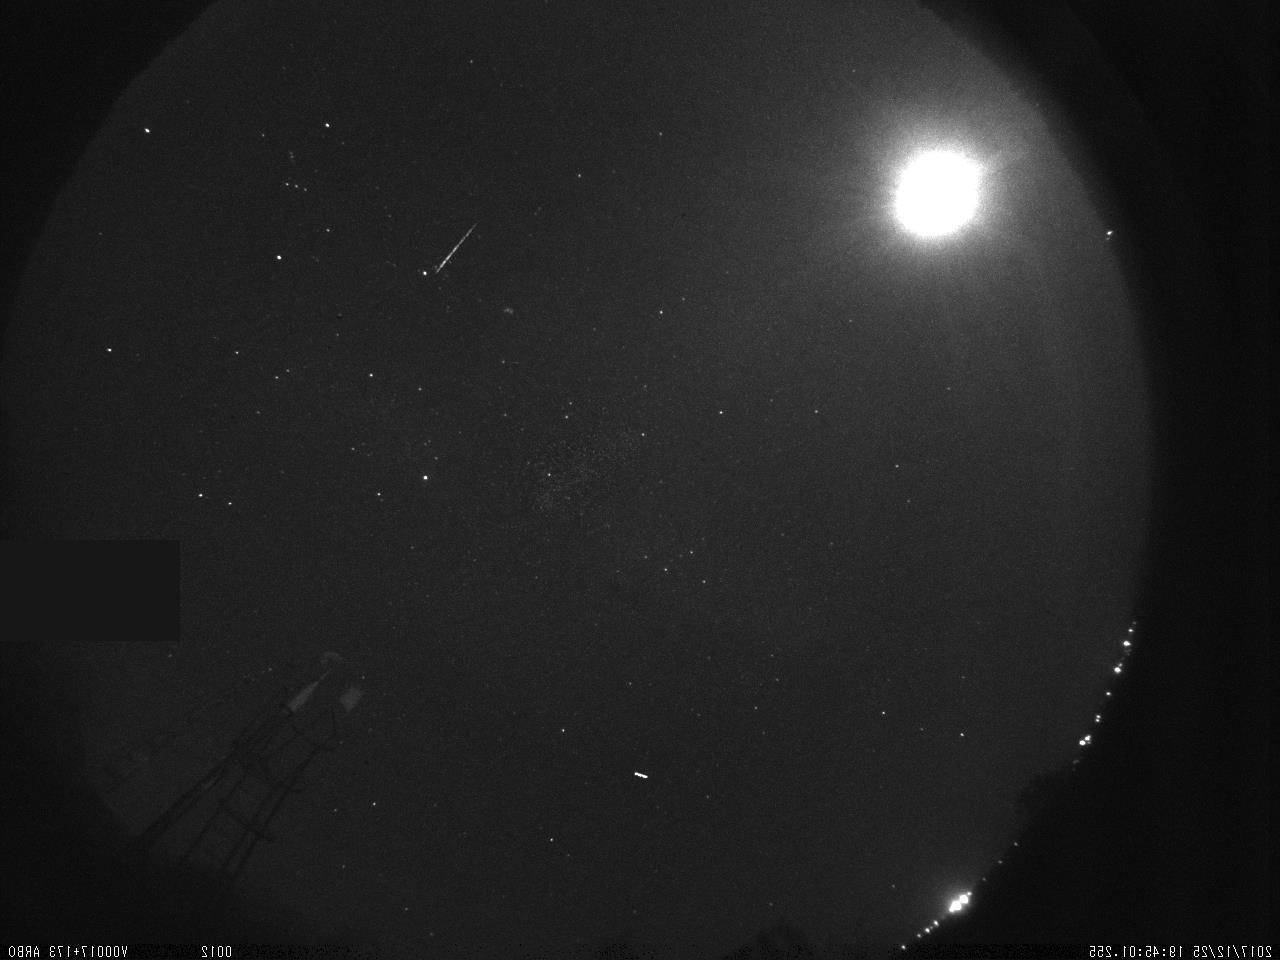meteor: (415, 212, 484, 295)
